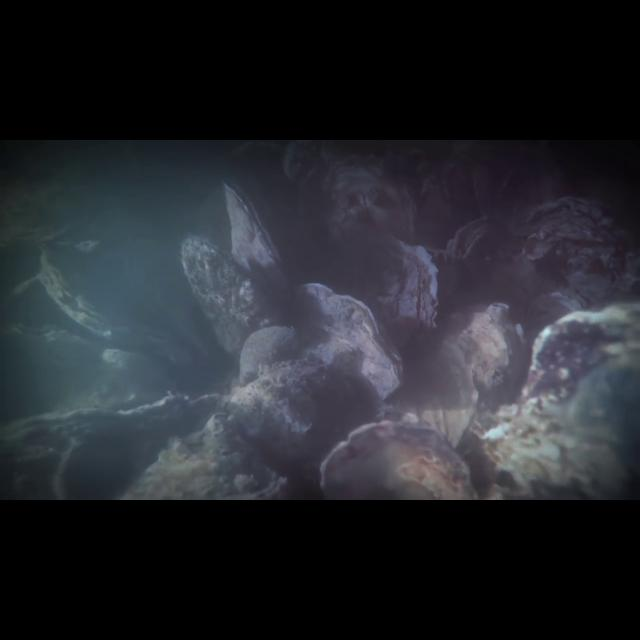Oyster-Closed: (479, 301, 640, 499), (369, 296, 531, 460), (220, 343, 378, 500), (0, 391, 222, 500), (32, 246, 201, 368), (291, 279, 414, 403), (122, 414, 289, 500), (176, 231, 278, 359), (321, 419, 481, 500), (511, 198, 632, 281), (361, 234, 444, 330), (239, 324, 309, 387), (3, 320, 106, 357), (445, 213, 494, 290)
Oyster-Open: (218, 175, 293, 322)
